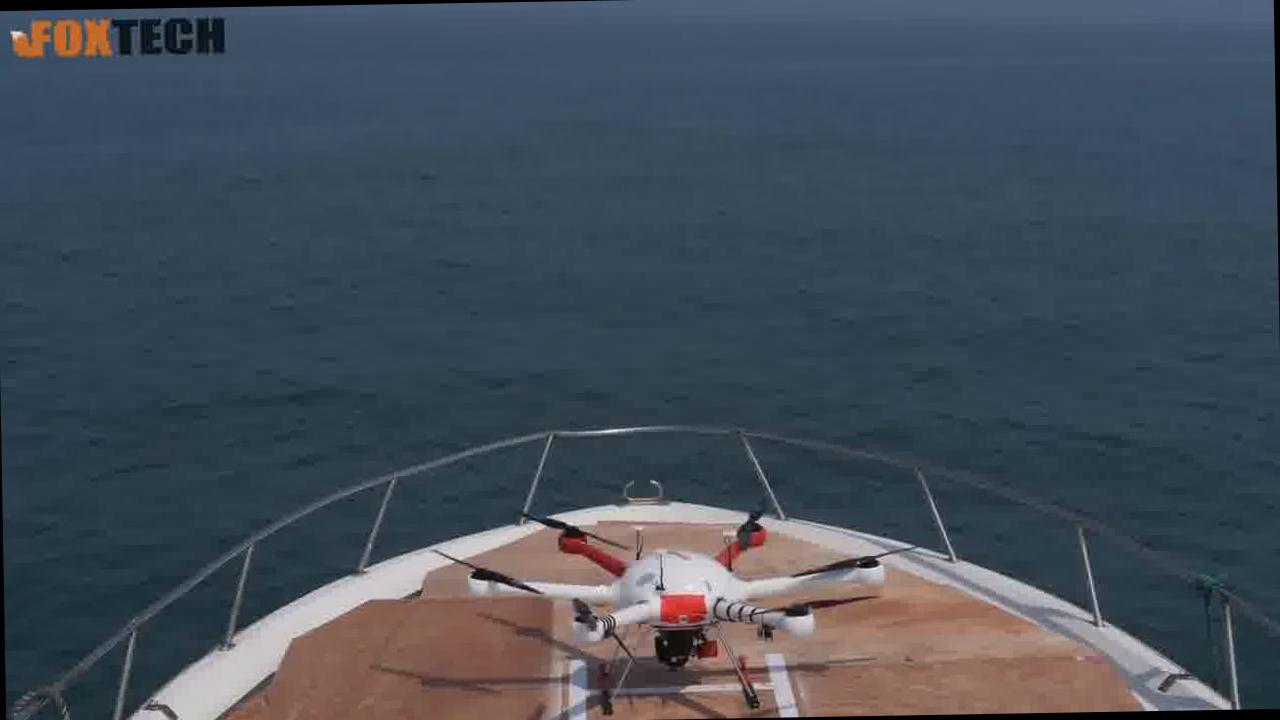drone: (436, 494, 918, 719)
